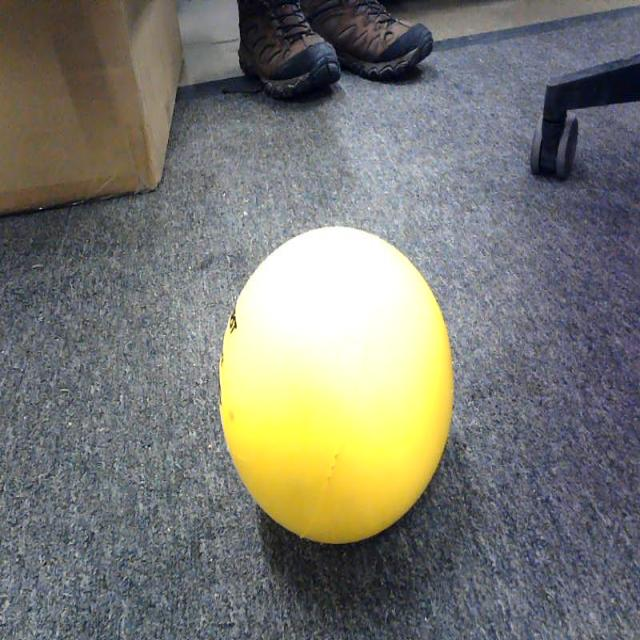Fuel: (219, 225, 453, 545)
